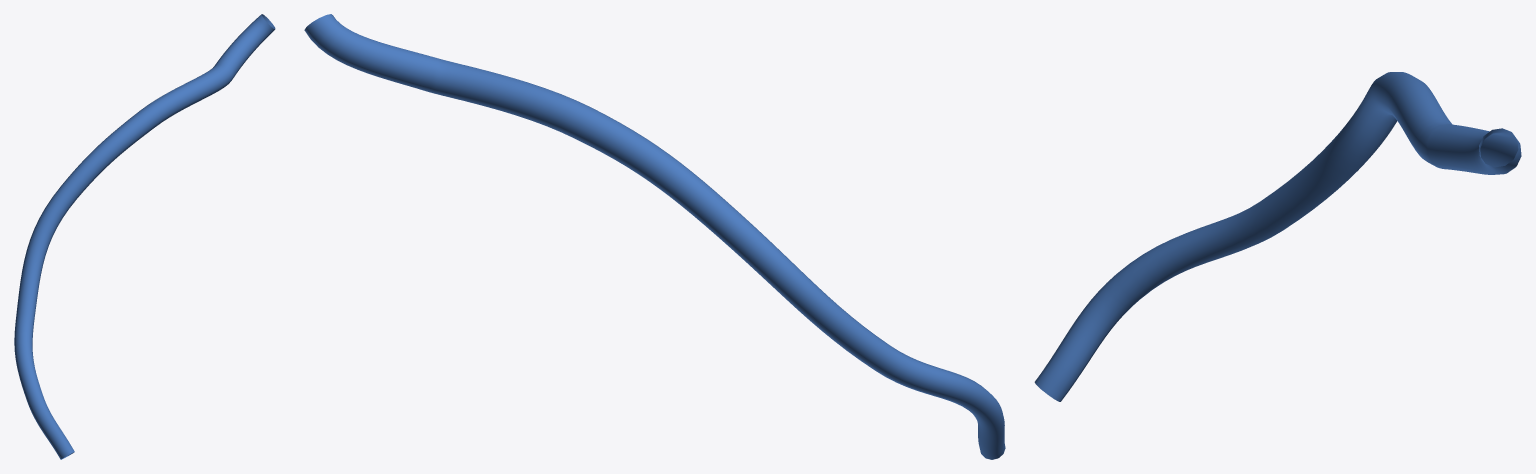
3 views of the same model, side by side, from view 1: azimuth 30°, elevation 25°; view 2: azimuth 150°, elevation 25°; view 3: azimuth 270°, elevation 25° (orthographic). The views are drawn at different scales.
Visible parts, largest first — view 1: 左侧岩下窦; view 2: 左侧岩下窦; view 3: 左侧岩下窦.
Boxes of the visible parts, x1,y1,x2,y2 form: 左侧岩下窦: (14, 14, 275, 459); 左侧岩下窦: (304, 14, 1005, 459); 左侧岩下窦: (1034, 72, 1521, 401).
Bounding box in the file's own units: 0.056 × 0.0451 × 0.0347.
